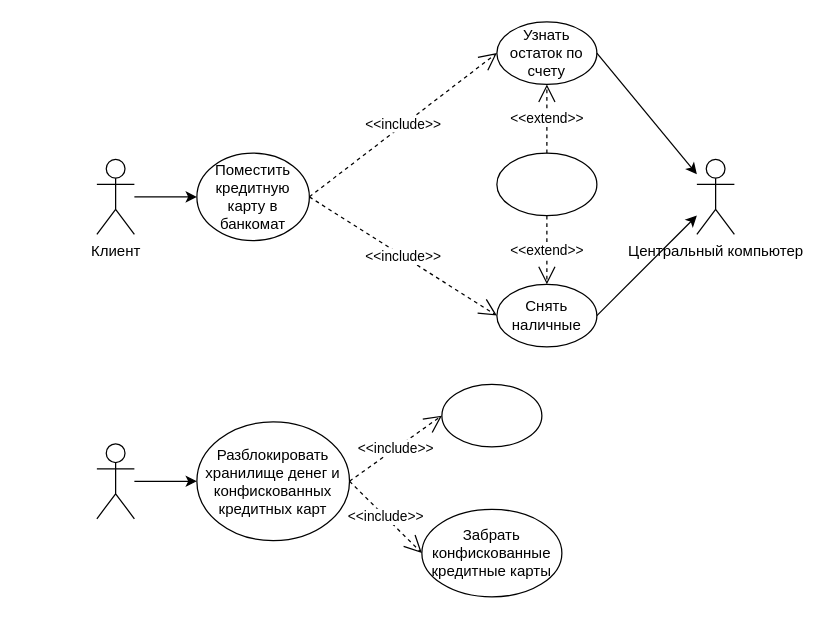
This 825x619 diagram has some shape labels left out. The shapes that lost their labels are listed below. From the top down, each one's box as (x1, y1, x2, y2) in pixels, then its label:
(496, 152, 597, 216): Распечатать справку
(441, 383, 542, 447): Загрузить деньги
(96, 442, 134, 519): Обслуживающий персонал
